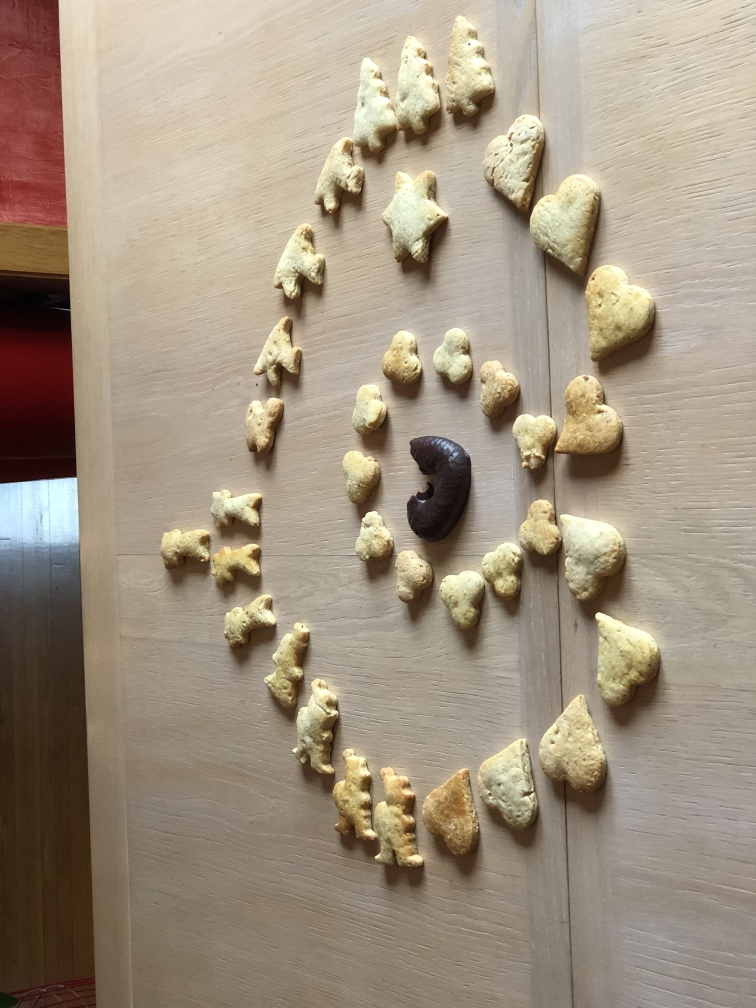christmas tree: (439, 13, 493, 122), (393, 34, 442, 148), (349, 56, 396, 145)
flake: (478, 358, 521, 430), (439, 566, 484, 632), (480, 540, 525, 601), (514, 408, 555, 471), (434, 327, 472, 391), (392, 549, 431, 609), (384, 331, 427, 385), (350, 384, 390, 439), (520, 497, 558, 554), (355, 511, 393, 563), (344, 451, 378, 505)
heart: (585, 260, 654, 364), (538, 696, 608, 798), (481, 115, 551, 209), (593, 605, 657, 705), (531, 174, 598, 269), (561, 513, 632, 599), (556, 373, 626, 458), (478, 736, 539, 833), (420, 761, 480, 857)
king mage: (262, 620, 307, 711)
lamb: (274, 221, 324, 307), (314, 136, 368, 210), (255, 319, 309, 383), (240, 398, 283, 456)
santa claus: (374, 764, 430, 866), (296, 677, 334, 777), (333, 749, 373, 844)
shooting star: (208, 487, 266, 539), (222, 593, 280, 644), (158, 527, 209, 573), (211, 543, 261, 580)
star: (383, 169, 449, 264)
